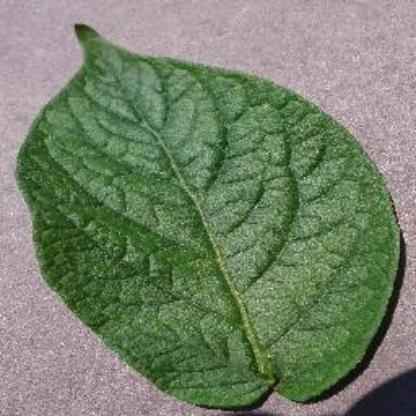Healthy-plant: (8, 18, 398, 410)
